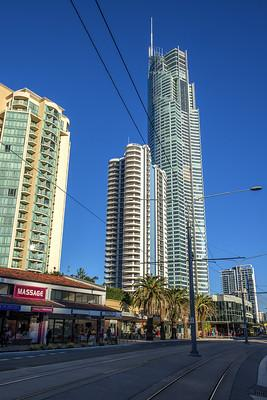building: (145, 40, 214, 324), (100, 140, 171, 318), (222, 262, 260, 342)
